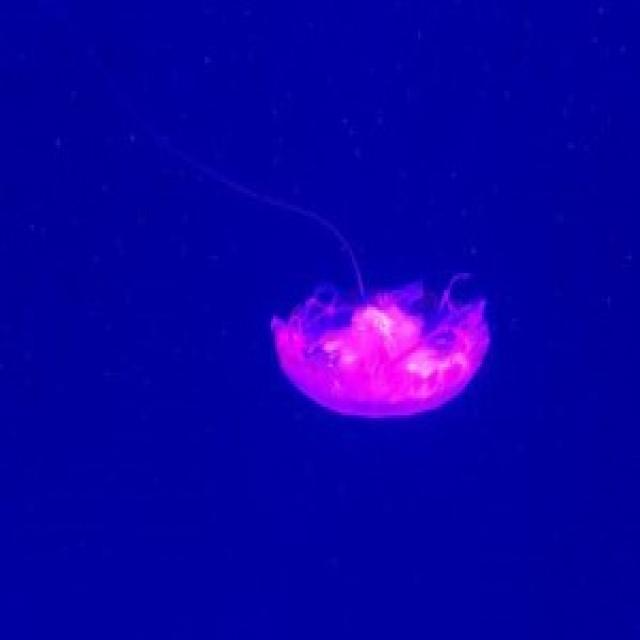Jellyfish: (247, 254, 536, 443)
